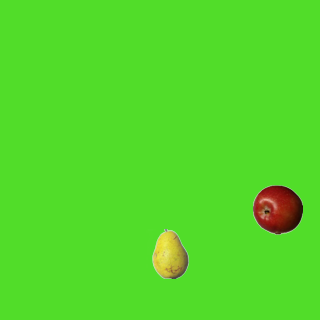Apple Braeburn: (252, 184, 302, 234)
Pear Monster: (145, 228, 195, 278)
